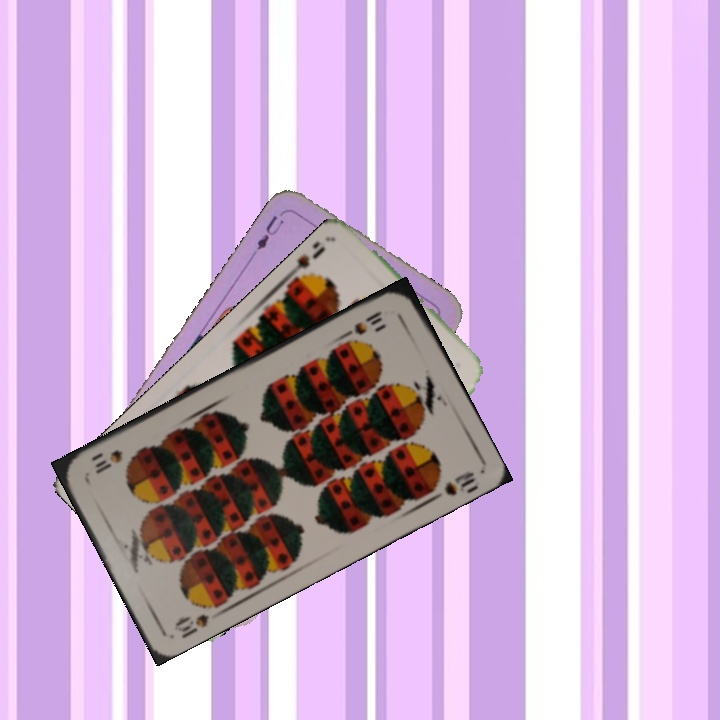EU: (248, 211, 287, 258)
S10: (169, 606, 225, 641), (339, 306, 385, 340)
S9: (284, 241, 328, 287)
